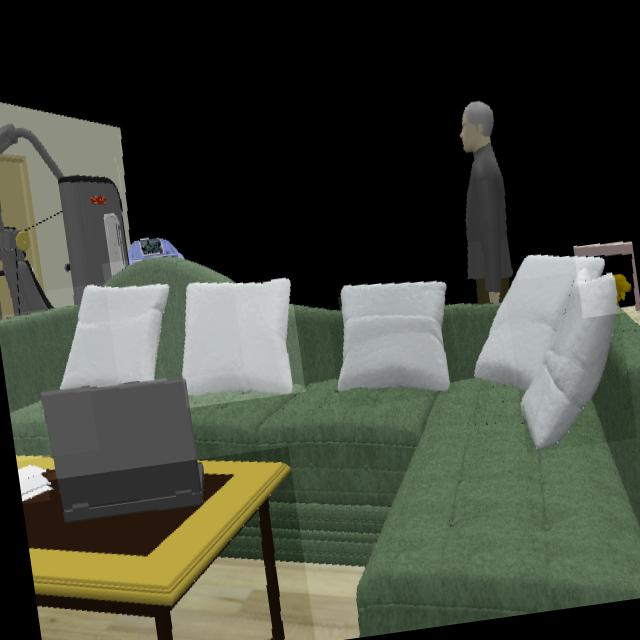book: (18, 467, 49, 504)
laptop: (42, 379, 204, 524)
person: (460, 102, 514, 306)
pillow: (474, 256, 606, 391), (521, 272, 618, 451), (182, 278, 294, 395), (337, 283, 451, 396), (60, 285, 170, 391)
sofa: (191, 305, 640, 637), (105, 256, 233, 379), (0, 305, 80, 459)
table: (23, 462, 292, 640), (574, 243, 640, 311), (16, 457, 55, 477)
